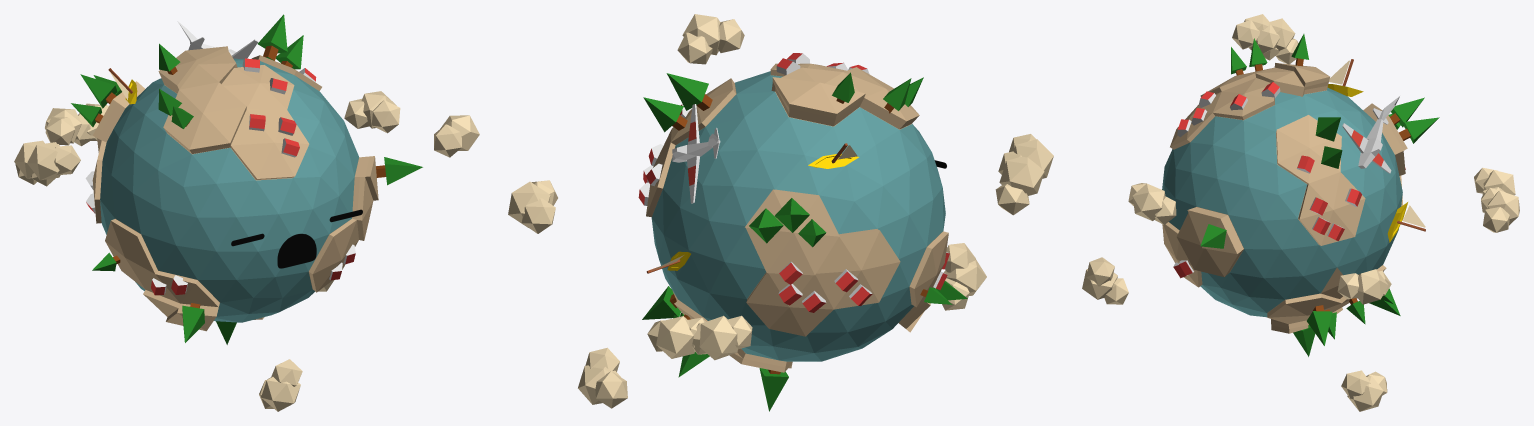
Rendered from sad.glb.
3 views of the same model, side by side, from view 1: azimuth 30°, elevation 25°; view 2: azimuth 150°, elevation 25°; view 3: azimuth 270°, elevation 25° (orthographic). The views are drawn at different scales.
Visible parts, largest first — view 1: Icosphere, Icosphere.001, Icosphere.008, Icosphere.006, 003, Icosphere.003, Icosphere.004, Plane.013, Plane.015, Plane.027, Icosphere.007, Plane.005 (+2 smaller); view 2: Icosphere, Icosphere.004, Icosphere.005, Icosphere.007, Icosphere.003, Icosphere.001, Icosphere.006, Icosphere.002, Plane.003, Plane.013, Icosphere.008, Plane.014 (+6 smaller); view 3: Icosphere, Icosphere.006, Icosphere.004, Plane.003, Icosphere.005, Icosphere.001, Icosphere.002, Icosphere.007, Icosphere.008, Icosphere.003, Plane.002, Plane.020 (+5 smaller).
Boxes of the visible parts, x1=… form: Icosphere: x1=92, y1=46, x2=378, y2=331; Icosphere.001: x1=344, y1=91, x2=400, y2=133; Icosphere.008: x1=27, y1=142, x2=80, y2=186; Icosphere.006: x1=259, y1=359, x2=302, y2=411; 003: x1=231, y1=209, x2=362, y2=268; Icosphere.003: x1=45, y1=108, x2=94, y2=146; Icosphere.004: x1=434, y1=115, x2=479, y2=157; Plane.013: x1=257, y1=14, x2=287, y2=60; Plane.015: x1=376, y1=157, x2=422, y2=185; Plane.027: x1=182, y1=303, x2=204, y2=342; Icosphere.007: x1=14, y1=140, x2=59, y2=184; Plane.005: x1=80, y1=74, x2=117, y2=108; Icosphere: x1=646, y1=63, x2=948, y2=372; Icosphere.004: x1=677, y1=14, x2=744, y2=64; Icosphere.005: x1=578, y1=347, x2=627, y2=408; Icosphere.007: x1=995, y1=151, x2=1044, y2=215; Icosphere.003: x1=692, y1=315, x2=752, y2=360; Icosphere.001: x1=508, y1=180, x2=557, y2=233; Icosphere.006: x1=942, y1=243, x2=986, y2=310; Icosphere.002: x1=647, y1=316, x2=705, y2=358; Plane.003: x1=672, y1=104, x2=720, y2=203; Plane.013: x1=666, y1=73, x2=712, y2=110; Icosphere.008: x1=1009, y1=134, x2=1053, y2=178; Plane.014: x1=643, y1=97, x2=687, y2=132; Icosphere: x1=1162, y1=63, x2=1407, y2=333; Icosphere.006: x1=1082, y1=257, x2=1128, y2=304; Icosphere.004: x1=1128, y1=183, x2=1176, y2=224; Plane.003: x1=1342, y1=96, x2=1399, y2=173; Icosphere.005: x1=1341, y1=370, x2=1387, y2=411; Icosphere.001: x1=1337, y1=269, x2=1391, y2=304; Icosphere.002: x1=1481, y1=188, x2=1519, y2=232; Icosphere.007: x1=1256, y1=18, x2=1298, y2=64; Icosphere.008: x1=1232, y1=14, x2=1279, y2=60; Icosphere.003: x1=1474, y1=167, x2=1515, y2=195; Plane.002: x1=1387, y1=202, x2=1425, y2=242; Plane.020: x1=1307, y1=305, x2=1332, y2=345.
Bounding box in the file's own units: 3.83 × 2.76 × 3.75.
Materials: 12 (1 with a texture image).
